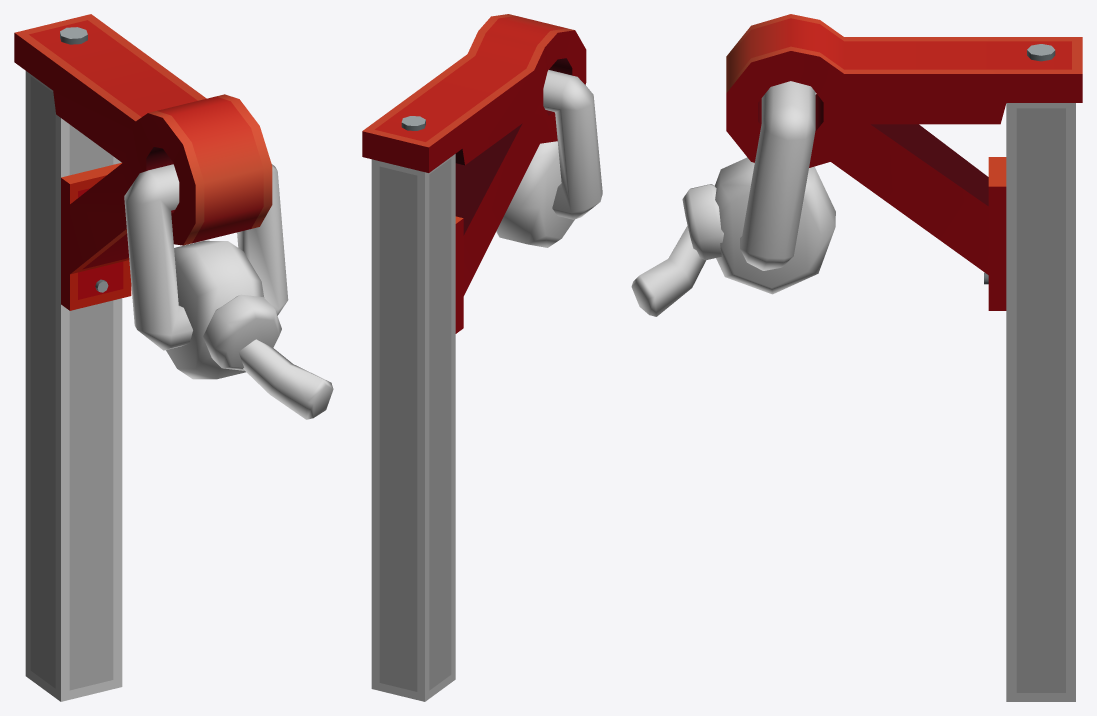
File: ZiplineNoPlatform.glb
3 renders of one model, left to right at view 1: azimuth 30°, elevation 25°; view 2: azimuth 150°, elevation 25°; view 3: azimuth 270°, elevation 25°, orthographic. The views are drawn at different scales.
Parts seen in each view (by area): view 1: ZiplineNoPlatform; view 2: ZiplineNoPlatform; view 3: ZiplineNoPlatform.
Boxes of the visible parts, x1,y1,x2,y2 form: ZiplineNoPlatform: [14, 14, 333, 701]; ZiplineNoPlatform: [362, 14, 602, 701]; ZiplineNoPlatform: [631, 14, 1082, 701].
Bounding box in the file's own units: 0.4122 × 1.77 × 1.1.
